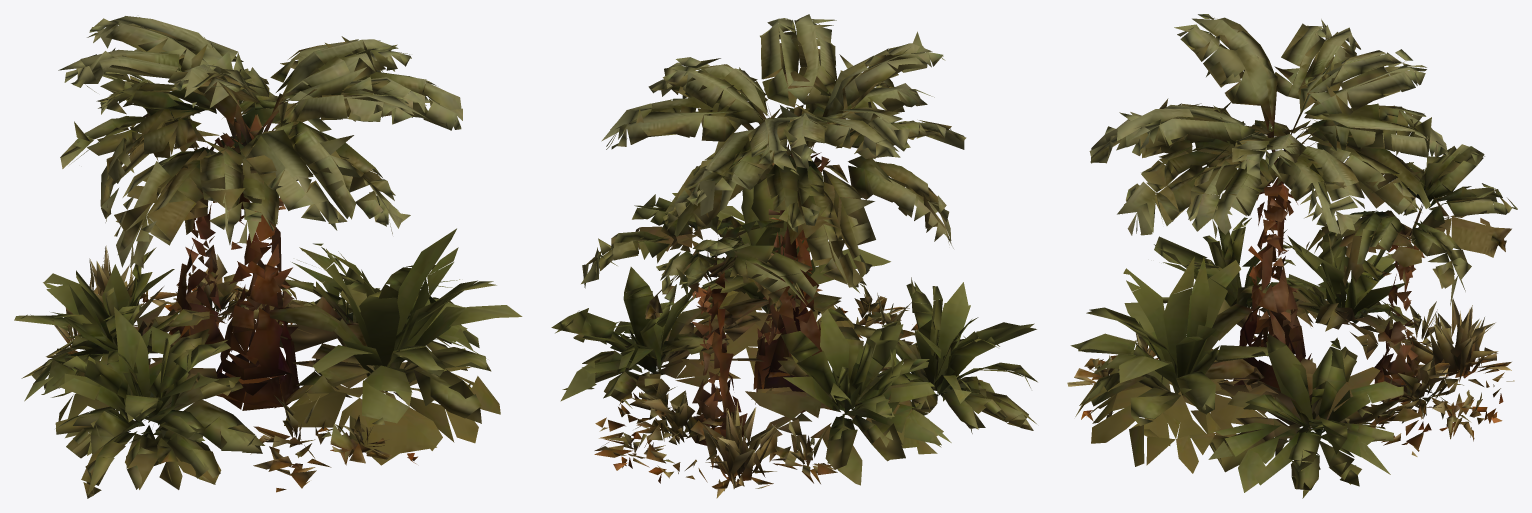
The model's file is jun_fern_cluster_tree_fern_LOD2.glb.
The picture shows the model from 3 angles, left to right: view 1: azimuth 30°, elevation 25°; view 2: azimuth 150°, elevation 25°; view 3: azimuth 270°, elevation 25°; orthographic projection. The views are drawn at different scales.
Parts seen in each view (by area): view 1: tripo_node_423479ea-ce77-42fe-a1a3-5ccf0479997e; view 2: tripo_node_423479ea-ce77-42fe-a1a3-5ccf0479997e; view 3: tripo_node_423479ea-ce77-42fe-a1a3-5ccf0479997e.
Boxes of the visible parts, x1,y1,x2,y2 form: tripo_node_423479ea-ce77-42fe-a1a3-5ccf0479997e: [14, 16, 522, 498]; tripo_node_423479ea-ce77-42fe-a1a3-5ccf0479997e: [551, 14, 1037, 498]; tripo_node_423479ea-ce77-42fe-a1a3-5ccf0479997e: [1067, 14, 1517, 498].
Size of the model in its own units: 1 by 0.8487 by 0.9973.
Materials: 1 (1 with a texture image).
